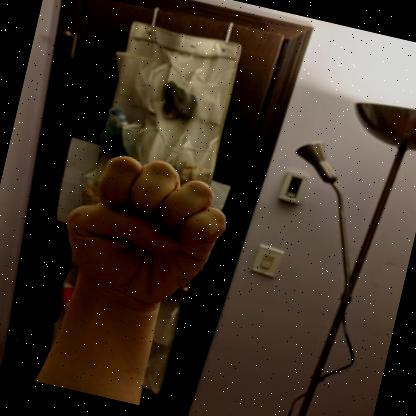E: (66, 156, 226, 310)
